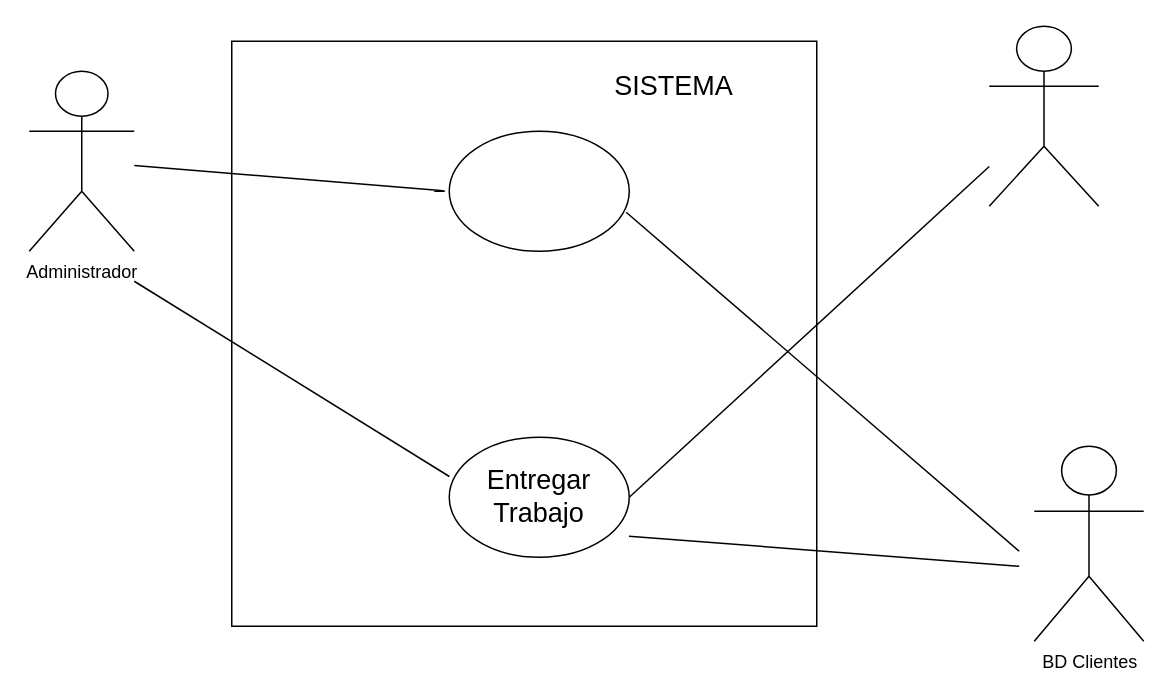
Some shapes in this 1170 by 699 pixel diagram are drawn without their labels. Here are the shapes that lost their labels. From the top down, the centre of each, then its label:
(1043,115): BD Materiales
(538,190): Registrar Entrada
